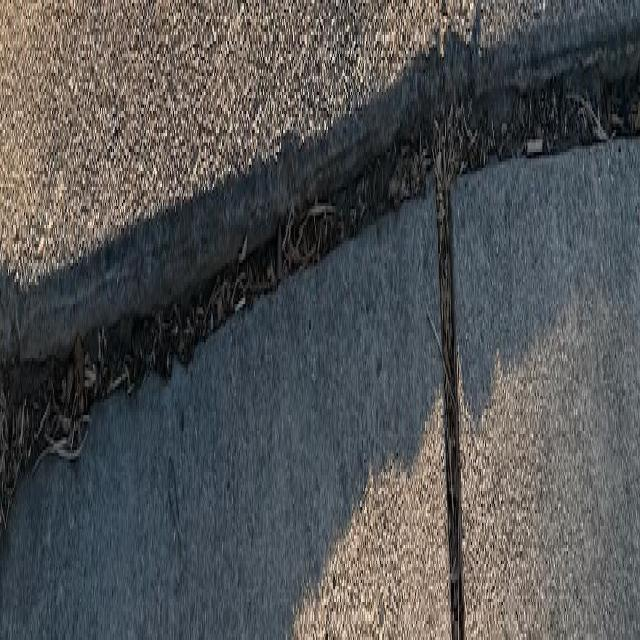bump: (7, 0, 614, 534)
